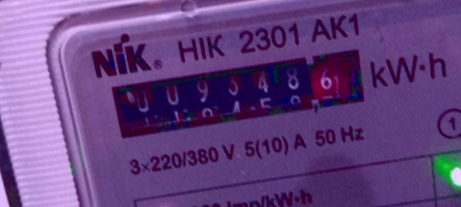0: (131, 85, 148, 113), (161, 80, 179, 105)
3: (221, 70, 239, 98)
4: (251, 65, 269, 94)
6: (313, 62, 334, 92)
8: (281, 62, 300, 92)
9: (191, 75, 210, 103)
screen: (99, 39, 375, 148)
